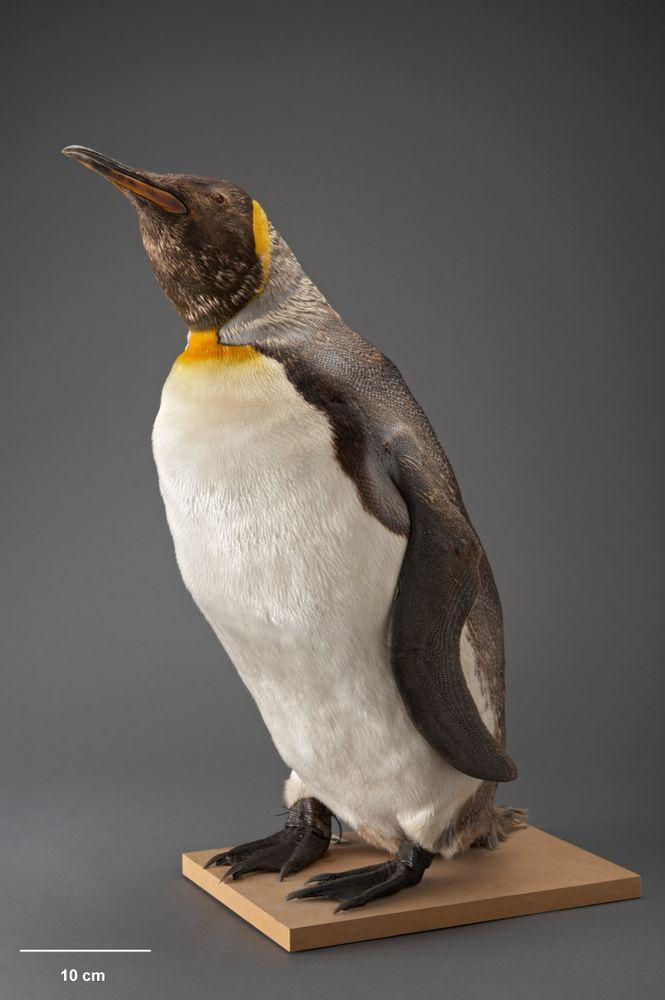king: (37, 110, 635, 937)
